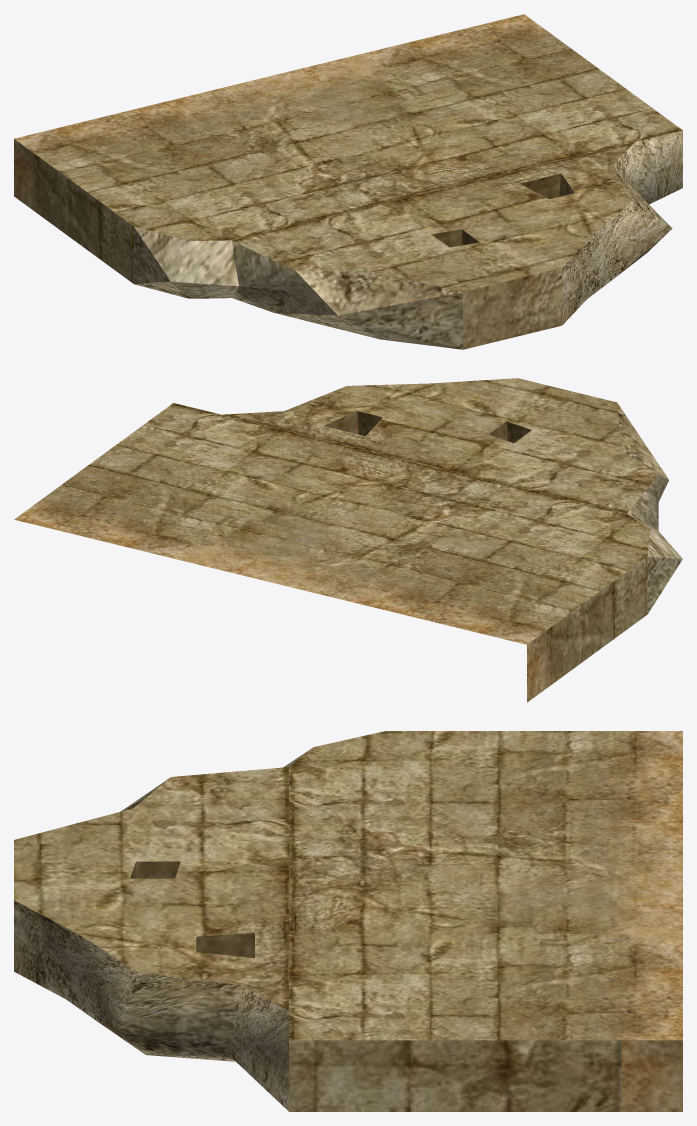
3 views of the same model, one above another, from view 1: azimuth 30°, elevation 25°; view 2: azimuth 150°, elevation 25°; view 3: azimuth 270°, elevation 25° (orthographic). The views are drawn at different scales.
Parts seen in each view (by area): view 1: model_Object33; view 2: model_Object33; view 3: model_Object33.
Boxes of the visible parts, x1,y1,x2,y2 form: model_Object33: (14,14,682,349); model_Object33: (14,378,682,702); model_Object33: (14,731,682,1111).
Bounding box in the file's own units: 4.66 × 0.5031 × 4.26.
3 materials, 3 textured.
